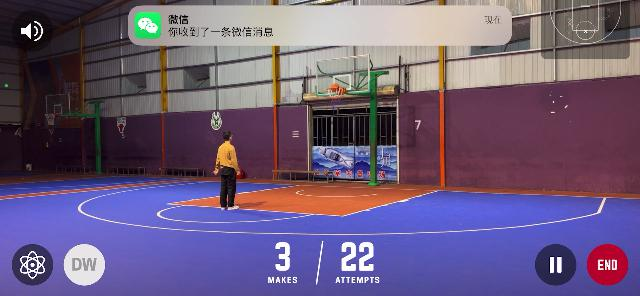ball: (330, 82, 340, 92)
basket: (328, 86, 344, 104), (44, 111, 58, 124)
